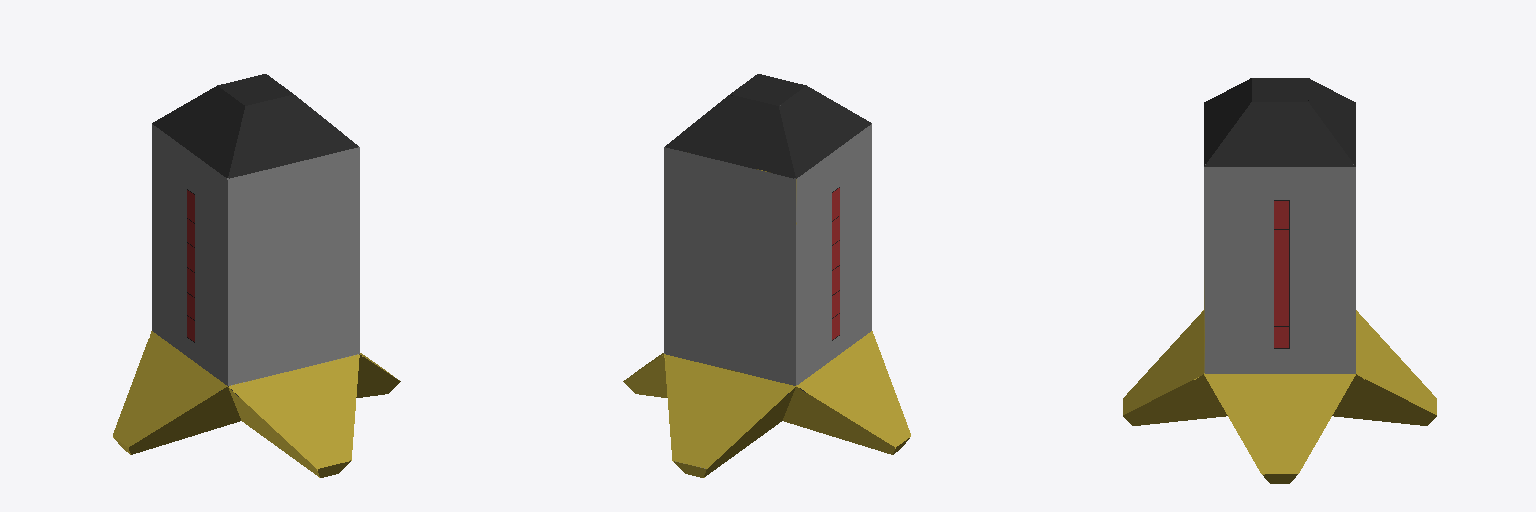
The picture shows the model from 3 angles: view 1: azimuth 30°, elevation 25°; view 2: azimuth 150°, elevation 25°; view 3: azimuth 270°, elevation 25°; orthographic projection.
Parts seen in each view (by area): view 1: Cube; view 2: Cube; view 3: Cube.
Boxes of the visible parts, x1=… form: Cube: x1=113, y1=74, x2=400, y2=477; Cube: x1=623, y1=74, x2=910, y2=477; Cube: x1=1123, y1=78, x2=1436, y2=483.
Bounding box in the file's own units: 8.22 × 9.63 × 8.26.
Materials: 1 (1 with a texture image).